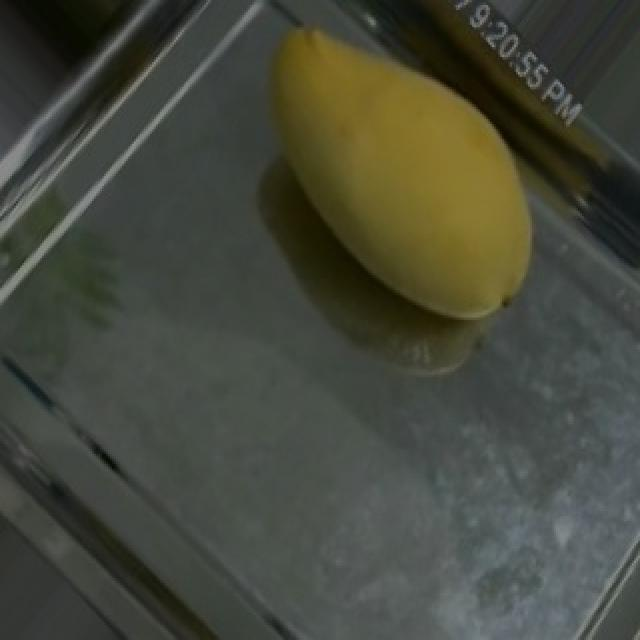fruit: (226, 5, 602, 372)
